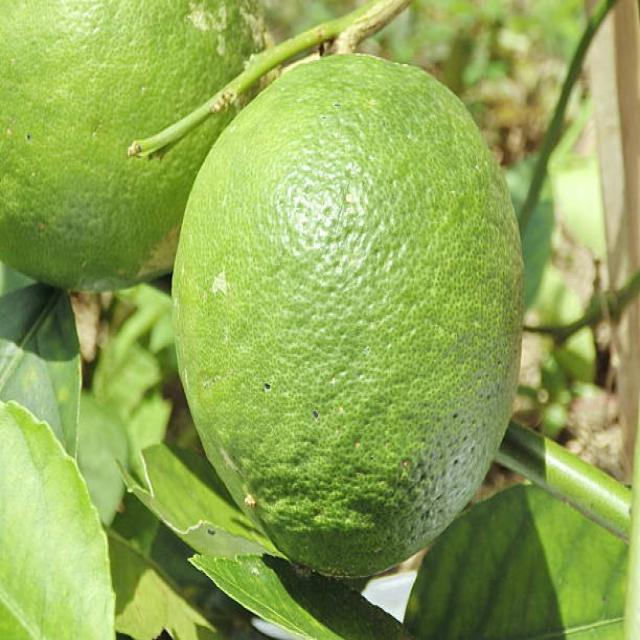Unripe: (172, 48, 523, 582)
